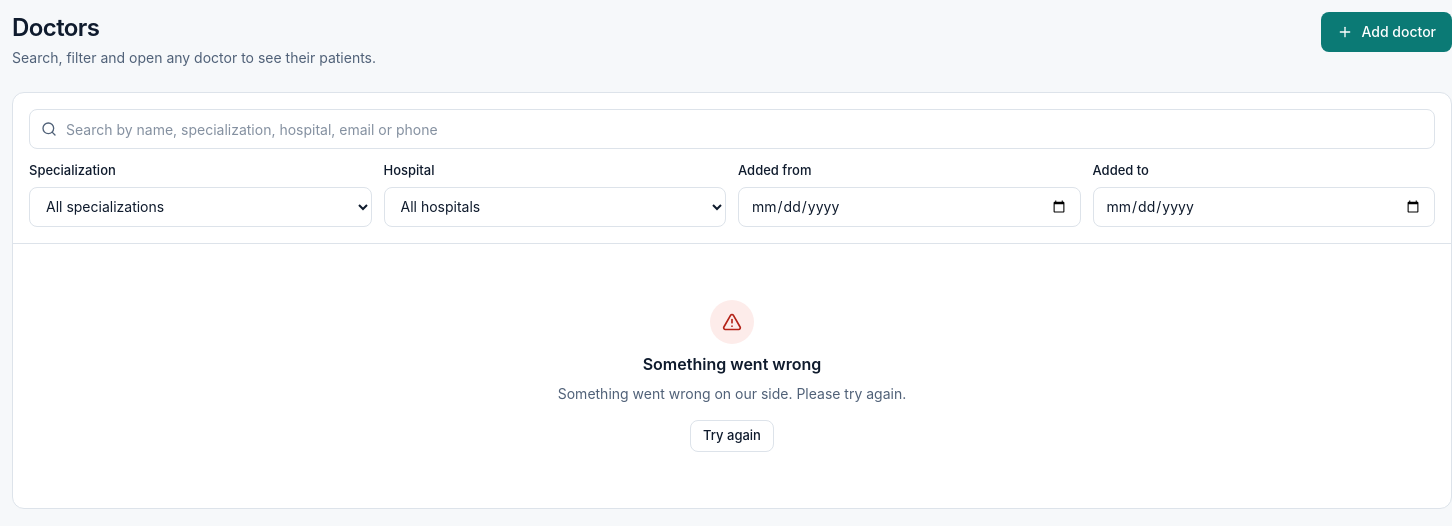
it: doctors list › shows an error state with retry, then recovers
expect the text "Something went wrong on our side. Please try again." is shown: met, box [558, 384, 906, 404]
Click the button "Try again".
click(732, 436)  # box [690, 420, 774, 452]
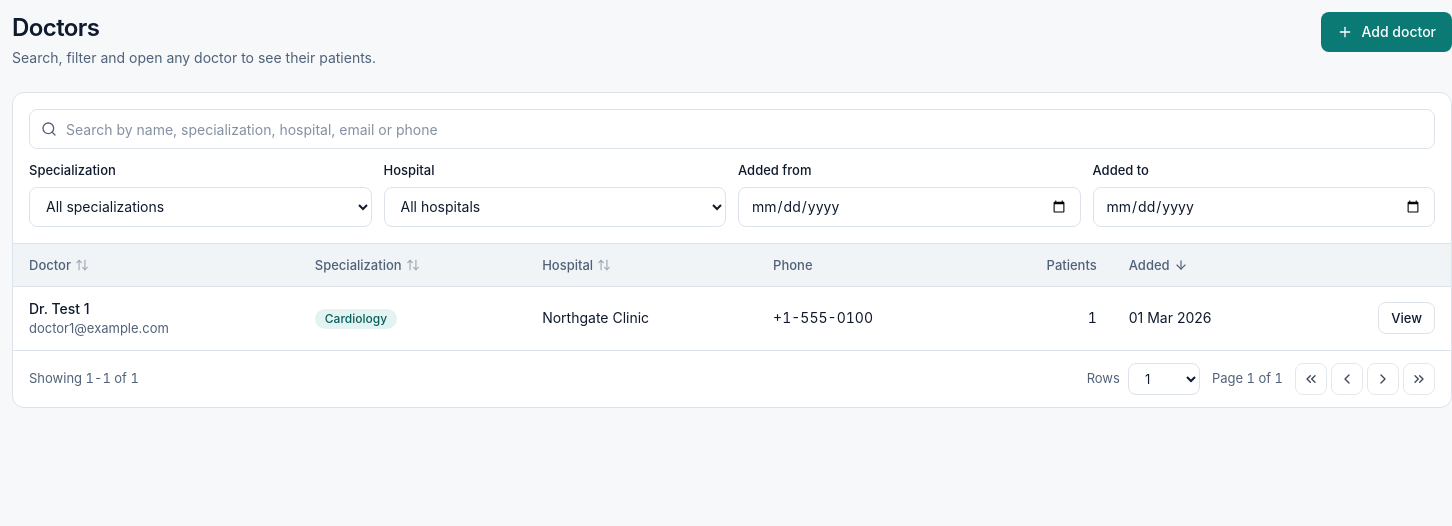
expect the text "Dr. Test 1" is shown: met, box [29, 300, 90, 317]
